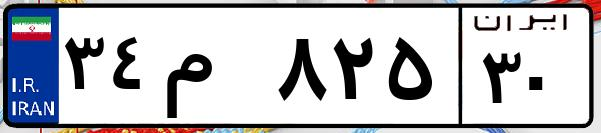0: (525, 38, 570, 115)
2: (330, 28, 385, 110)
3: (57, 26, 110, 100), (475, 38, 525, 113)
4: (110, 28, 158, 98)
5: (385, 28, 445, 110)
8: (270, 28, 330, 110)
م: (158, 20, 270, 120)
